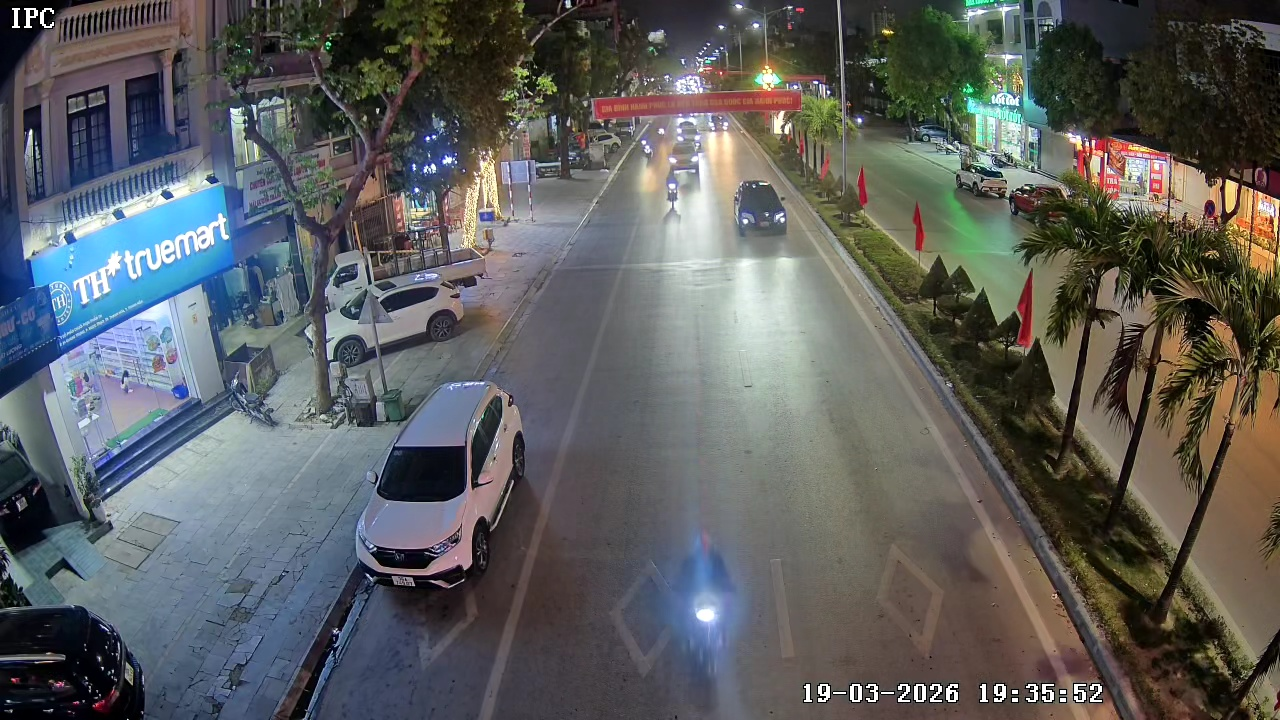car: (353, 378, 533, 595), (0, 603, 150, 719), (346, 265, 467, 358), (733, 176, 789, 237), (666, 140, 704, 177)
motorbike: (665, 171, 682, 212)
